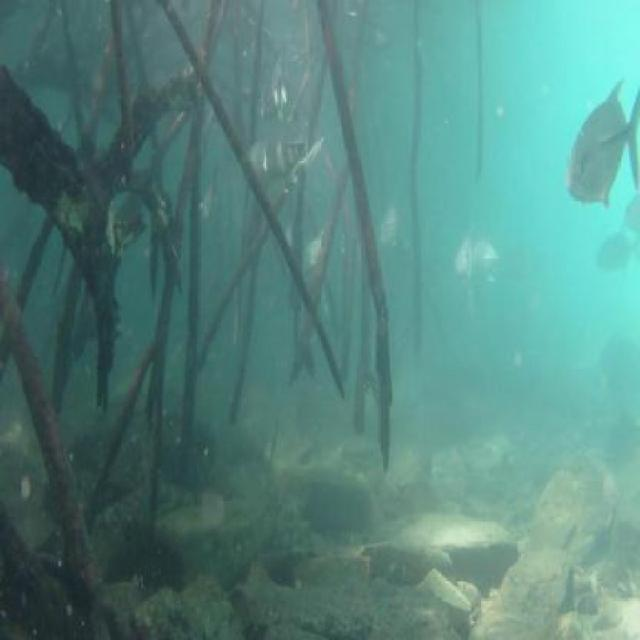Caranx_sexfasciatus_juvenile: (560, 60, 640, 209), (594, 219, 638, 287), (262, 116, 300, 192), (263, 55, 294, 137), (464, 224, 498, 287), (378, 191, 404, 264), (448, 228, 474, 297), (202, 158, 225, 232), (618, 188, 640, 238)
